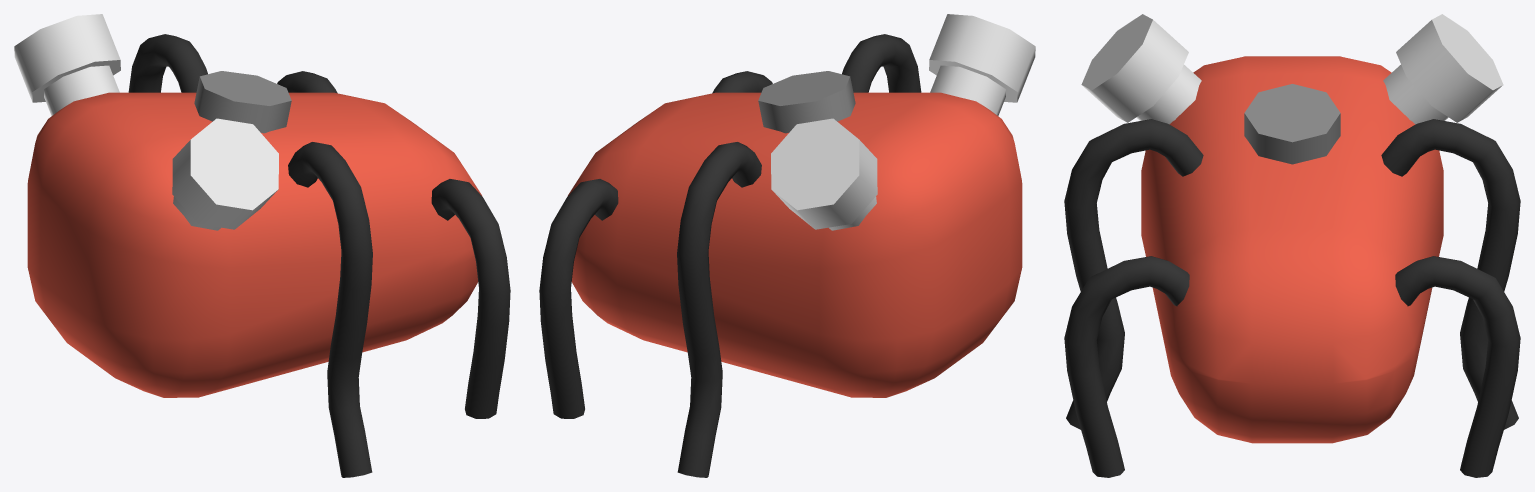
File: engine_2.fbx
3 renders of one model, left to right at view 1: azimuth 30°, elevation 25°; view 2: azimuth 150°, elevation 25°; view 3: azimuth 270°, elevation 25°, orthographic.
Visible parts, largest first — view 1: engine_2; view 2: engine_2; view 3: engine_2.
Part boxes in pixels (left/top/right/bottom): engine_2: left=14, top=14, right=510, bottom=477; engine_2: left=539, top=14, right=1035, bottom=477; engine_2: left=1064, top=14, right=1520, bottom=477.
Bounding box in the file's own units: 185 × 161 × 186.
